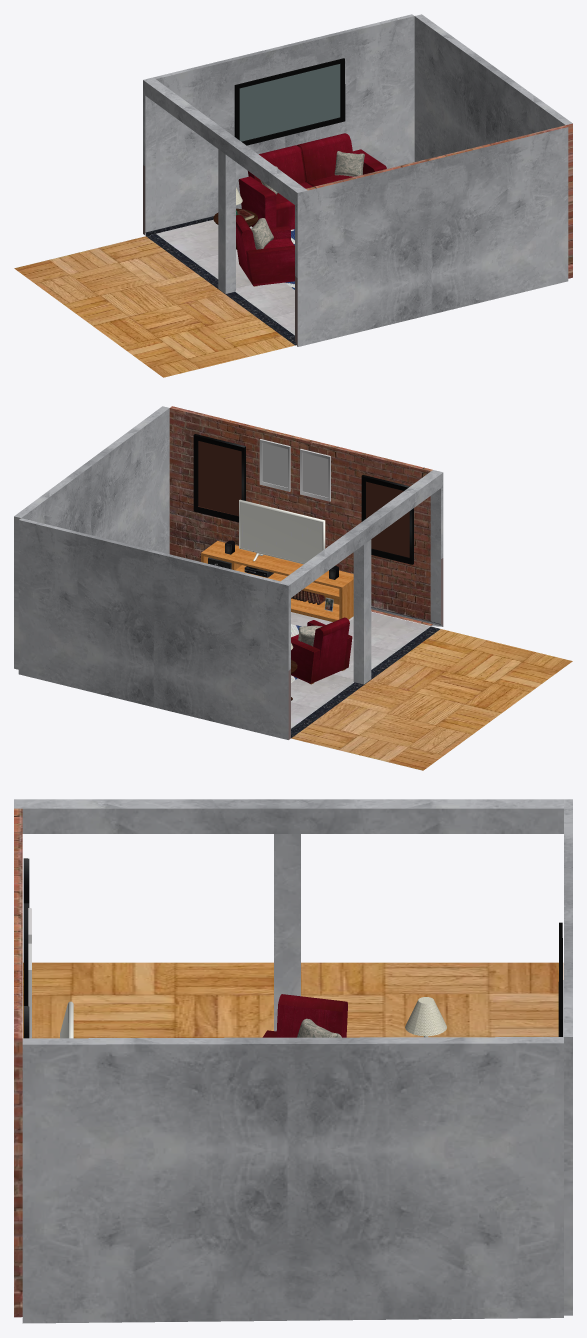
The model's file is tabletop_castle_02.glb.
3 renders of one model, top to bottom at view 1: azimuth 30°, elevation 25°; view 2: azimuth 150°, elevation 25°; view 3: azimuth 270°, elevation 25°, orthographic. The views are drawn at different scales.
Visible parts, largest first — view 1: Object_12, Object_7, Object_19, Object_32, Object_15, Object_21; view 2: Object_12, Object_7, Object_19, Object_18, Object_15, Object_28; view 3: Object_12, Object_7, Object_15, Object_19, Object_10, Object_28.
Part boxes in pixels (x1,y1,x2,y2): Object_12: (143,14,572,346); Object_7: (14,219,296,377); Object_19: (234,58,345,145); Object_32: (238,133,386,229); Object_15: (236,215,294,286); Object_21: (251,151,364,249); Object_12: (14,406,443,739); Object_7: (291,612,572,770); Object_19: (198,439,409,564); Object_18: (201,541,353,621); Object_15: (291,617,352,684); Object_28: (193,434,413,564); Object_12: (14,799,572,1323); Object_7: (23,962,563,1038); Object_15: (262,994,347,1037); Object_19: (28,908,563,1038); Object_10: (405,997,446,1037); Object_28: (23,858,29,1038).
Size of the model in its own units: 28.72 by 10.35 by 18.77.
Materials: 31 (28 with a texture image).
